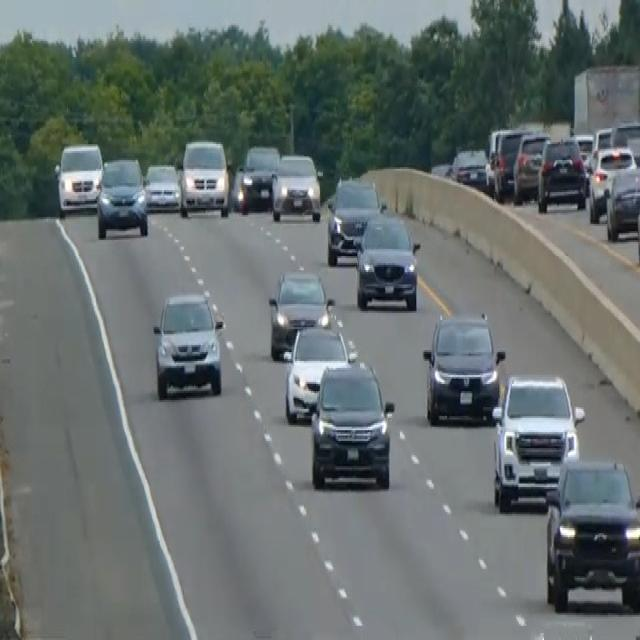car: (491, 370, 584, 512), (422, 307, 504, 425), (282, 299, 357, 423), (151, 288, 224, 400), (354, 210, 420, 311), (267, 267, 330, 359), (326, 174, 384, 265), (96, 155, 148, 238), (536, 134, 587, 212), (587, 144, 636, 222), (270, 150, 322, 222), (53, 141, 103, 215), (486, 125, 529, 199), (237, 142, 279, 212), (603, 162, 639, 242), (512, 130, 550, 202), (143, 160, 180, 212), (450, 146, 488, 190), (609, 119, 639, 167), (635, 174, 639, 274)
jeep: (543, 452, 639, 612), (308, 356, 396, 492)
minivan: (177, 135, 231, 219)
